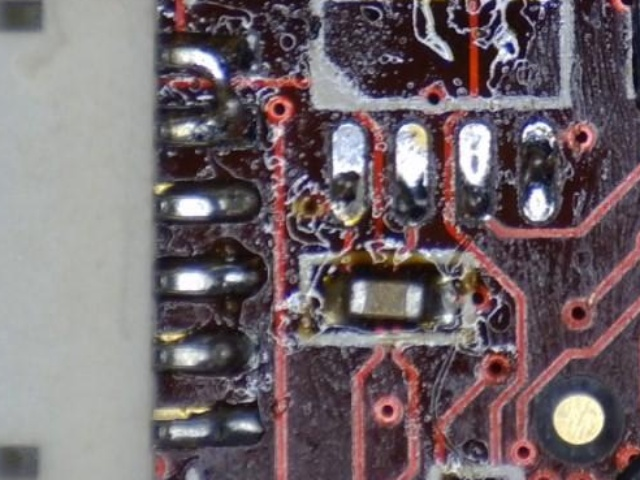pcb_defect: (156, 32, 258, 146)
